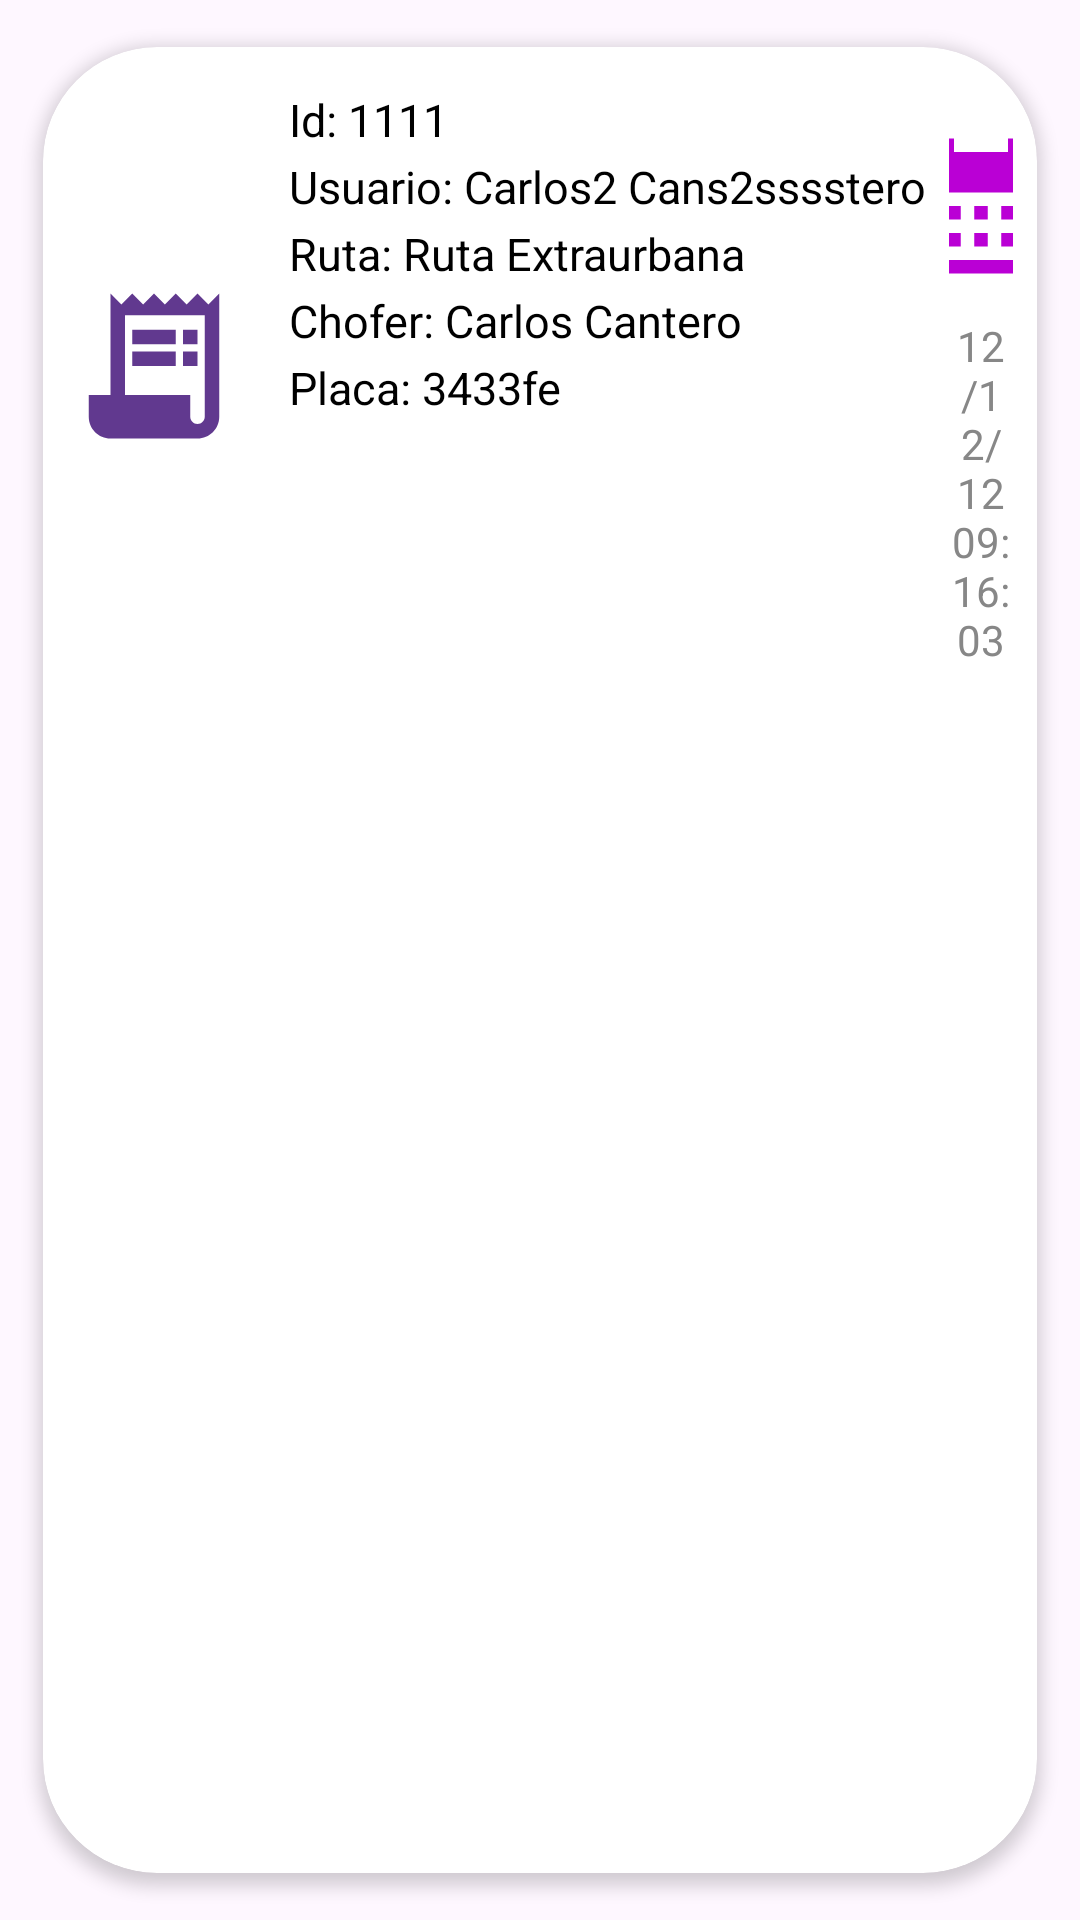

Where icons sit on this 1080x1920 app screen, as (left=x1, top=y1, right=x2, bottom=y2):
receipt long: (left=88, top=293, right=220, bottom=439)
